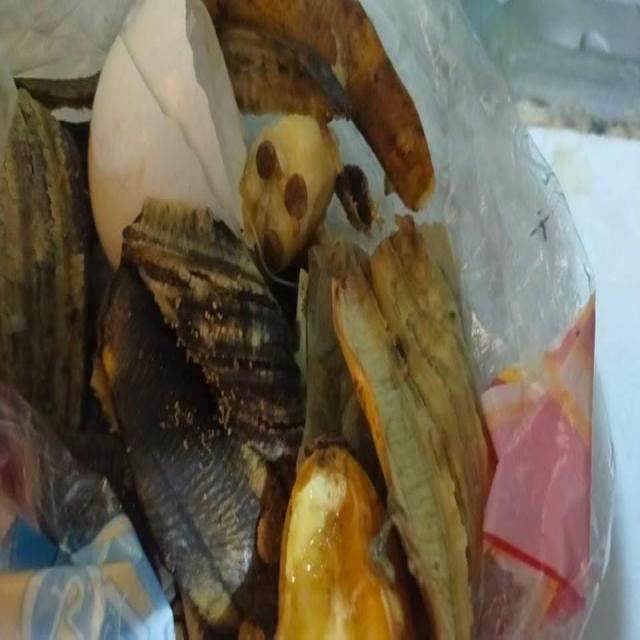egg shell: (86, 0, 246, 271)
